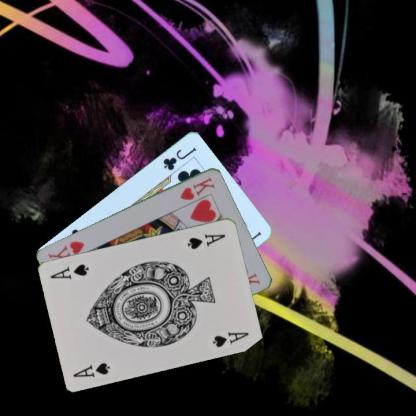As: (184, 231, 226, 250), (70, 360, 112, 378)
Jc: (160, 144, 199, 172)
Kh: (177, 174, 217, 201)
